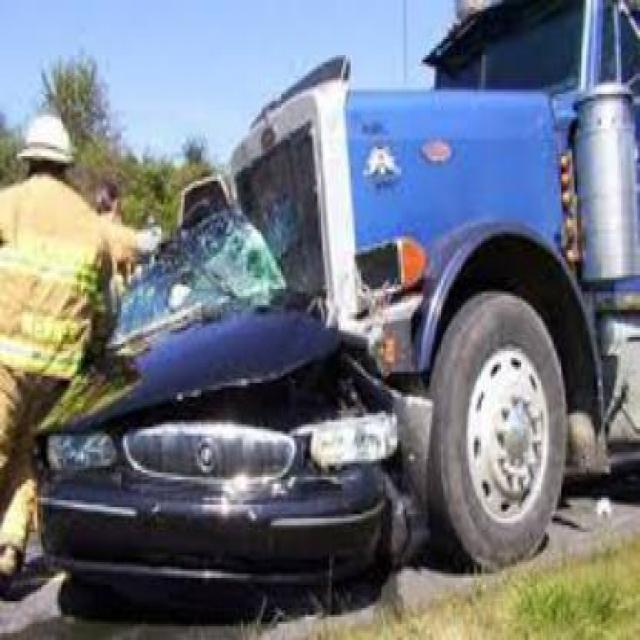accident: (35, 46, 640, 617)
